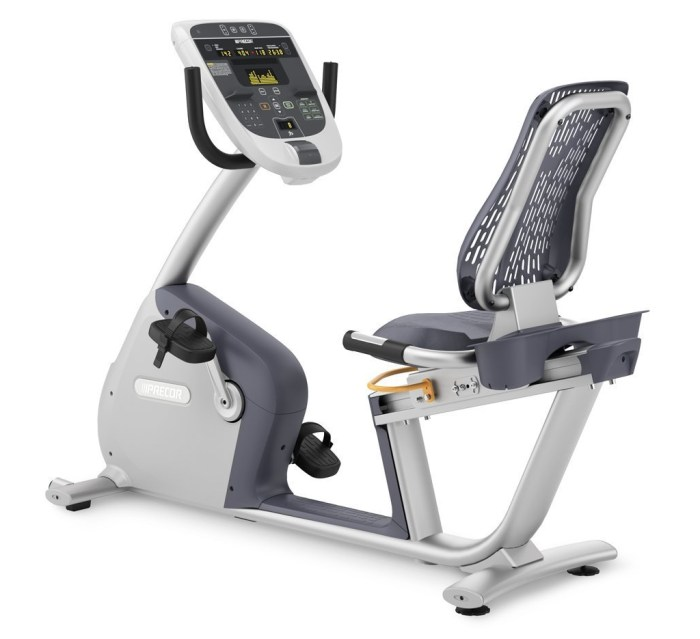gym_bike: (38, 9, 681, 637)
